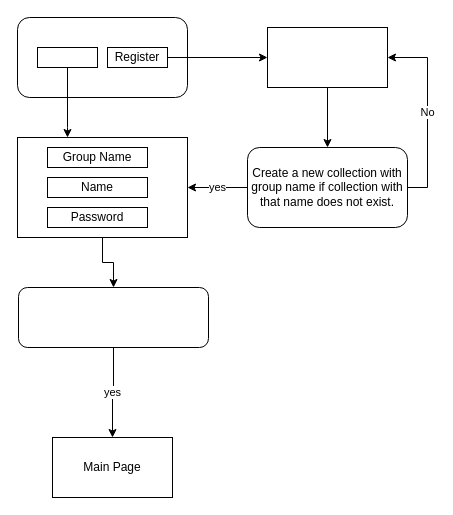
The diagram is 453 pixels wide and 515 high, and some of its shapes have lost their labels. The centre of each missing label's shape, as x and y in pixels:
"Enter your Group name" belongs at point 327,57.
"If entry with that name and password exists in the groupname collection." belongs at point 113,317.
"Login" belongs at point 67,57.
